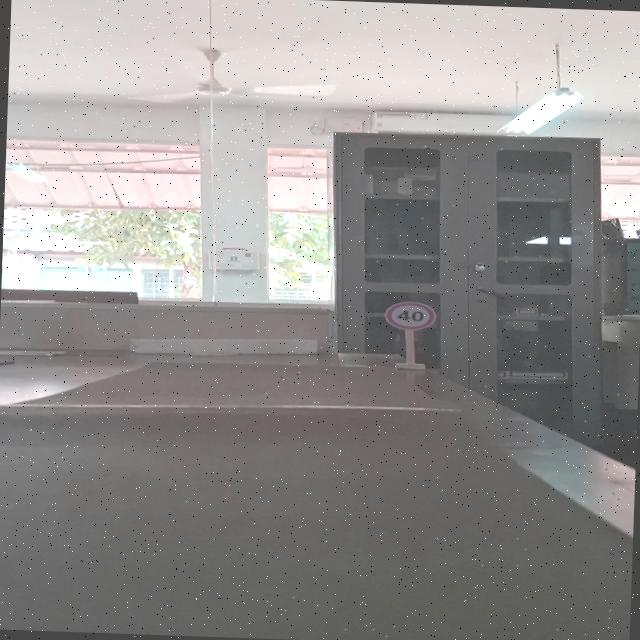Speed40: (381, 298, 437, 332)
